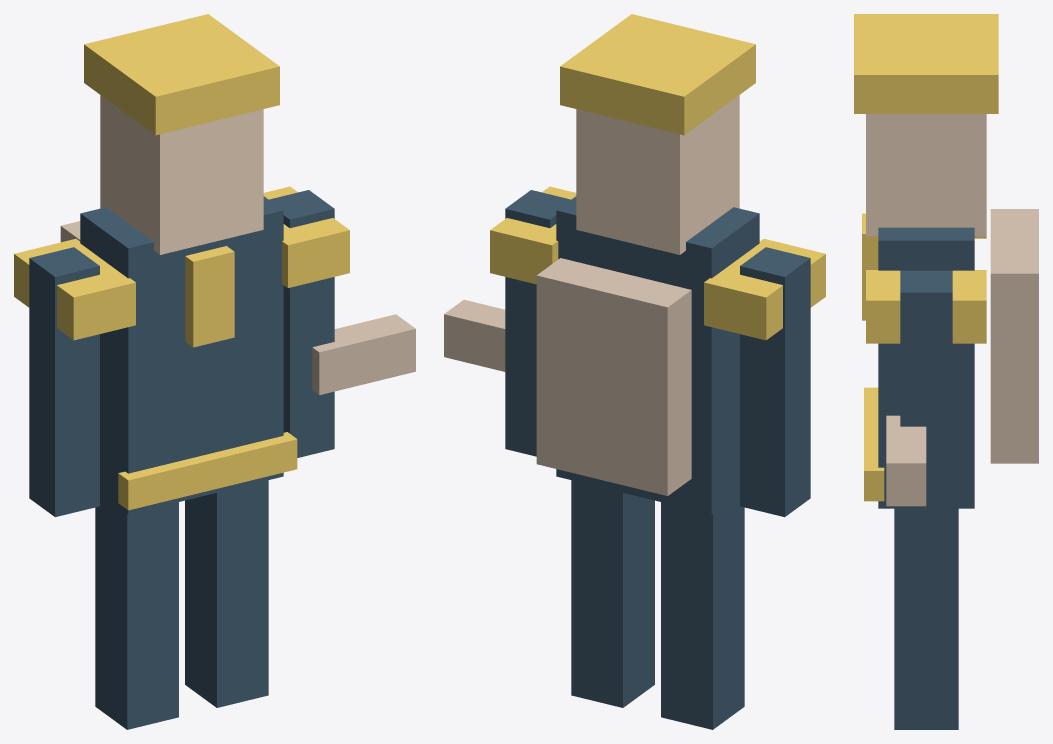
File: 07_astra_cinderholt_tactician_at_kill.glb
3 renders of one model, left to right at view 1: azimuth 30°, elevation 25°; view 2: azimuth 150°, elevation 25°; view 3: azimuth 270°, elevation 25°, orthographic.
Parts seen in each view (by area): view 1: Astra Cinderholt, Tactician at Kill; view 2: Astra Cinderholt, Tactician at Kill; view 3: Astra Cinderholt, Tactician at Kill.
Boxes of the visible parts, <box> form: Astra Cinderholt, Tactician at Kill: <box>14,14,415,729</box>; Astra Cinderholt, Tactician at Kill: <box>444,14,825,729</box>; Astra Cinderholt, Tactician at Kill: <box>854,14,1038,729</box>.
Size of the model in its own units: 0.9748 by 1.7 by 0.4375.
